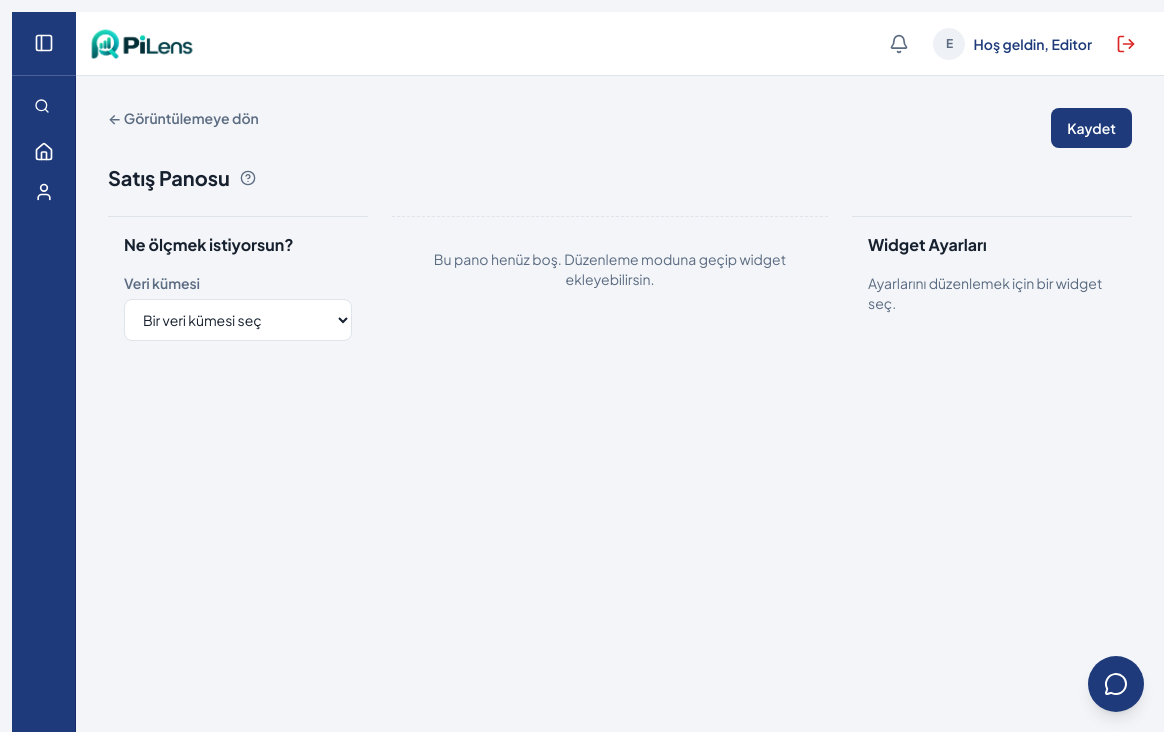
Test: DashboardEditPage › yeni widget eklendiginde grid alanina eklenir ve kaydedilmemis degisiklik uyarisi cikar
The image size is (1164, 732).
Select "Satış Verisi" in the dropdown labelled "Veri kümesi" at coordinates (238, 320), box [124,299,352,341]
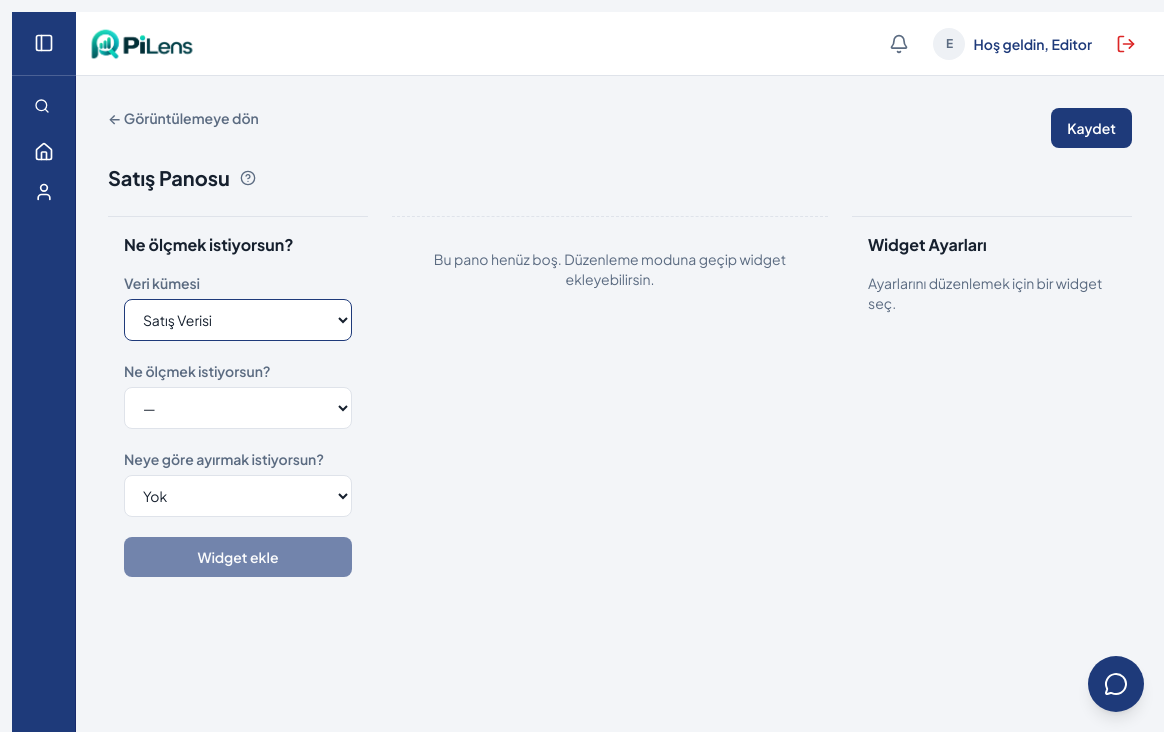
Select "Tutar" in the dropdown labelled "Ne ölçmek istiyorsun?" at coordinates (238, 408), box [124,387,352,429]
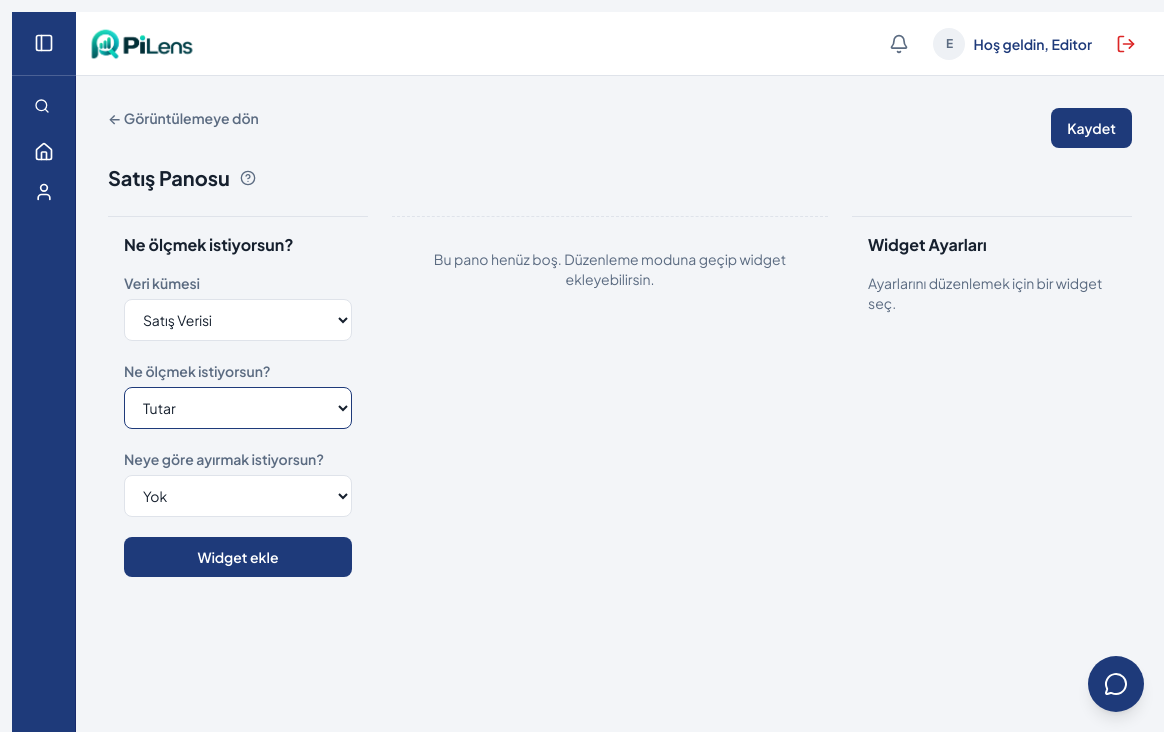
Click the button "Widget ekle" at coordinates (238, 557), box [124,537,352,577]
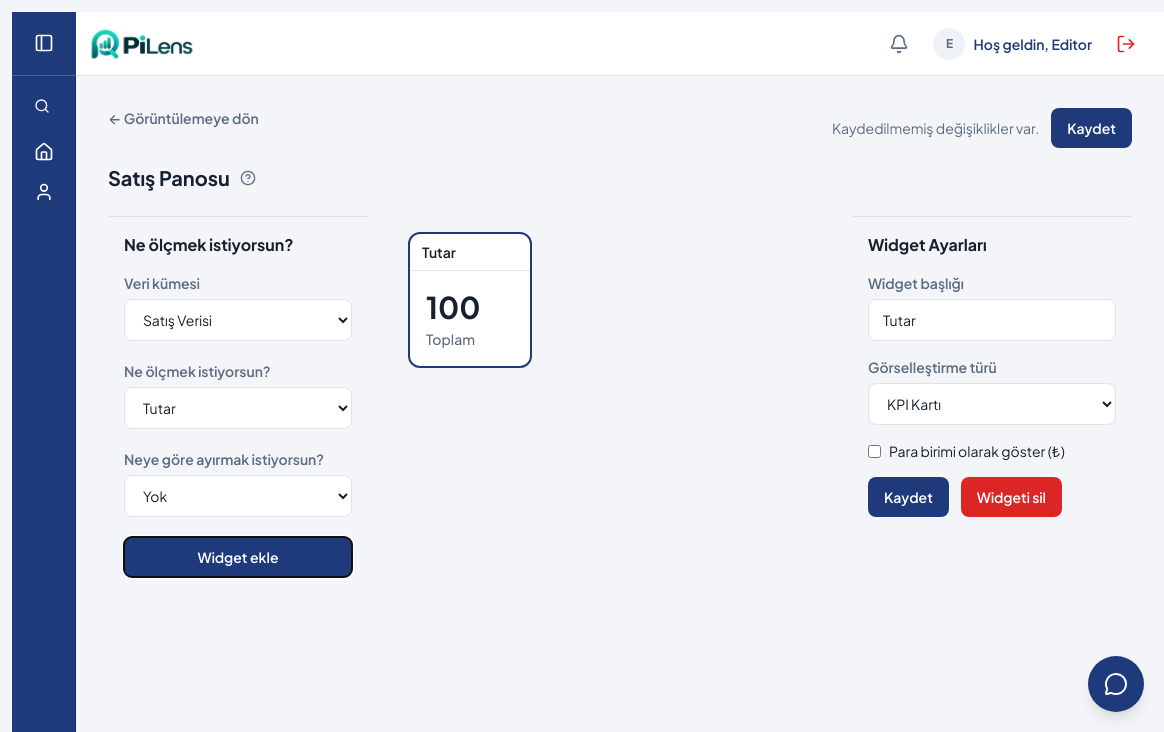
Expected: the text "Kaydedilmemiş değişiklikler var." is shown, [832,118,1039,138]
